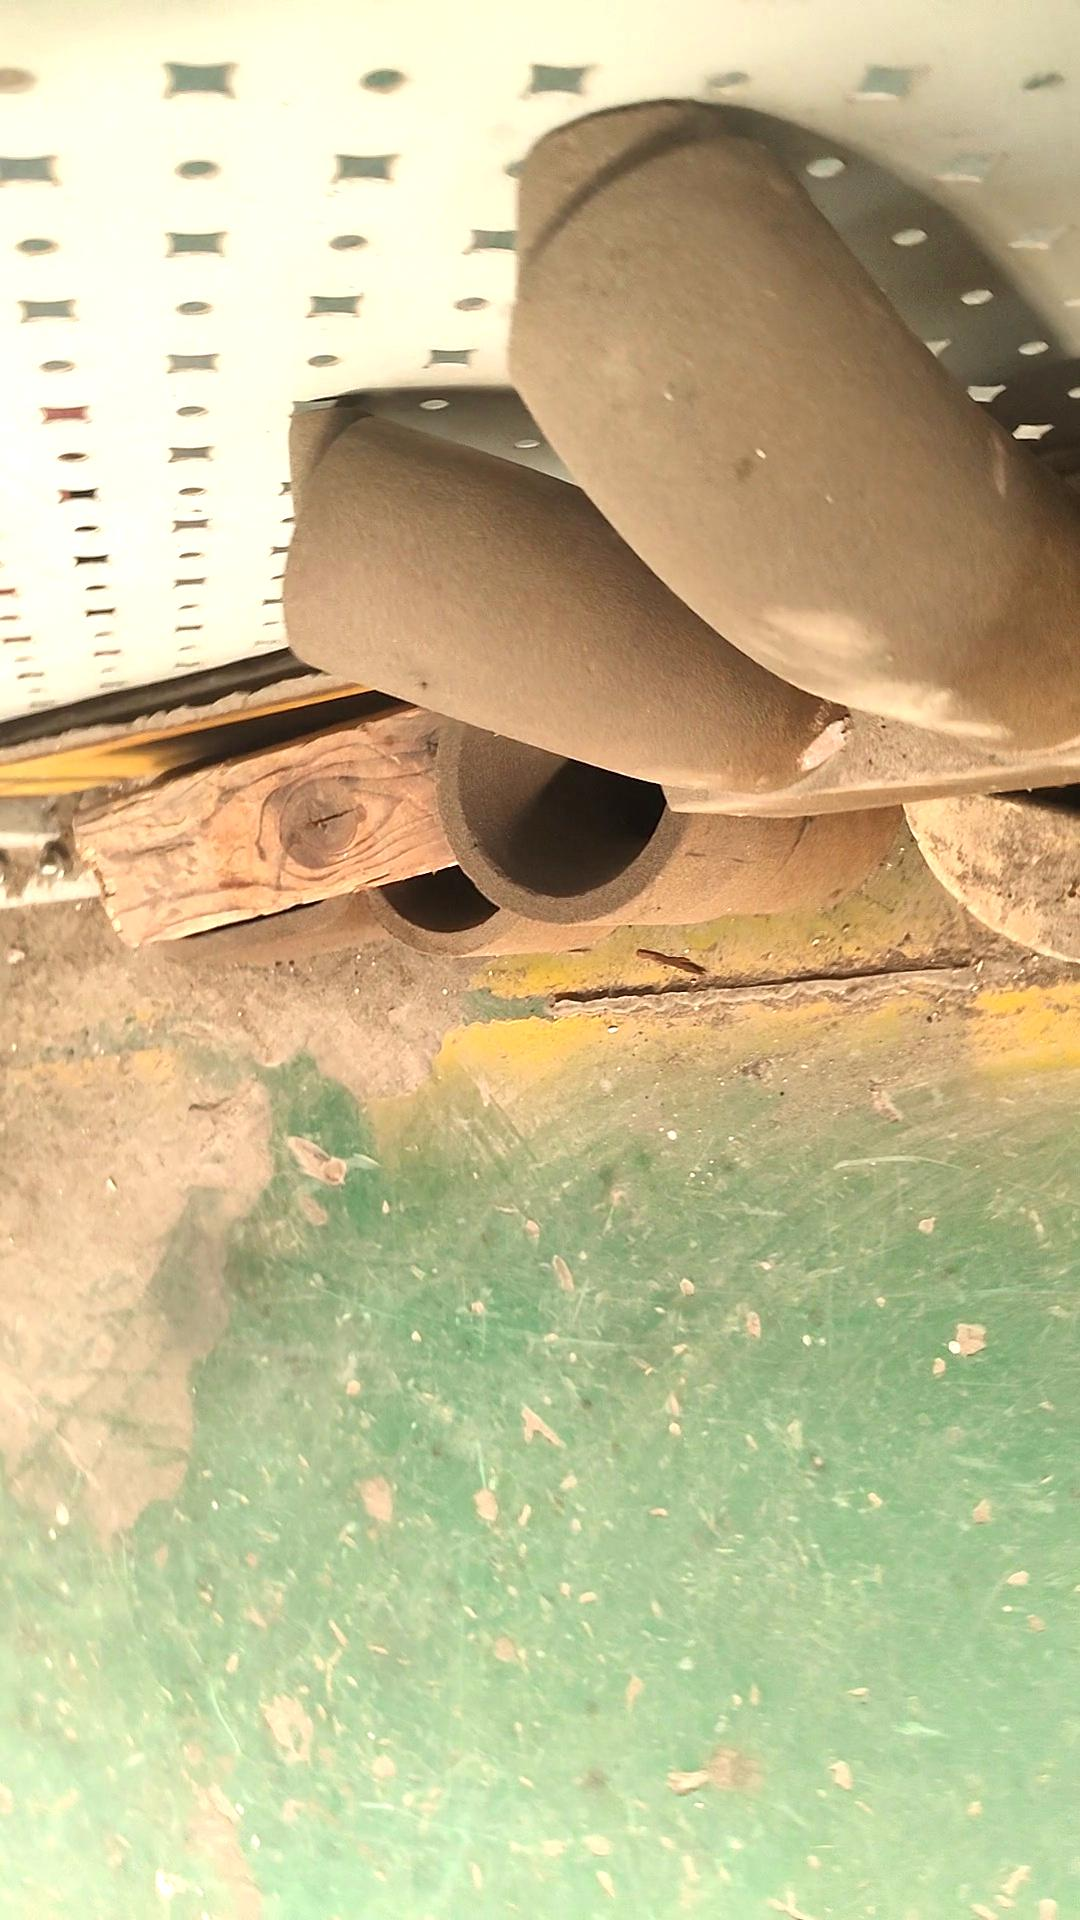pouring hole: (458, 688, 662, 899), (364, 769, 512, 931)
